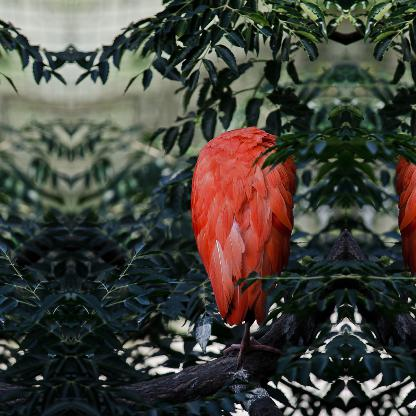Bird: (195, 125, 287, 338)
